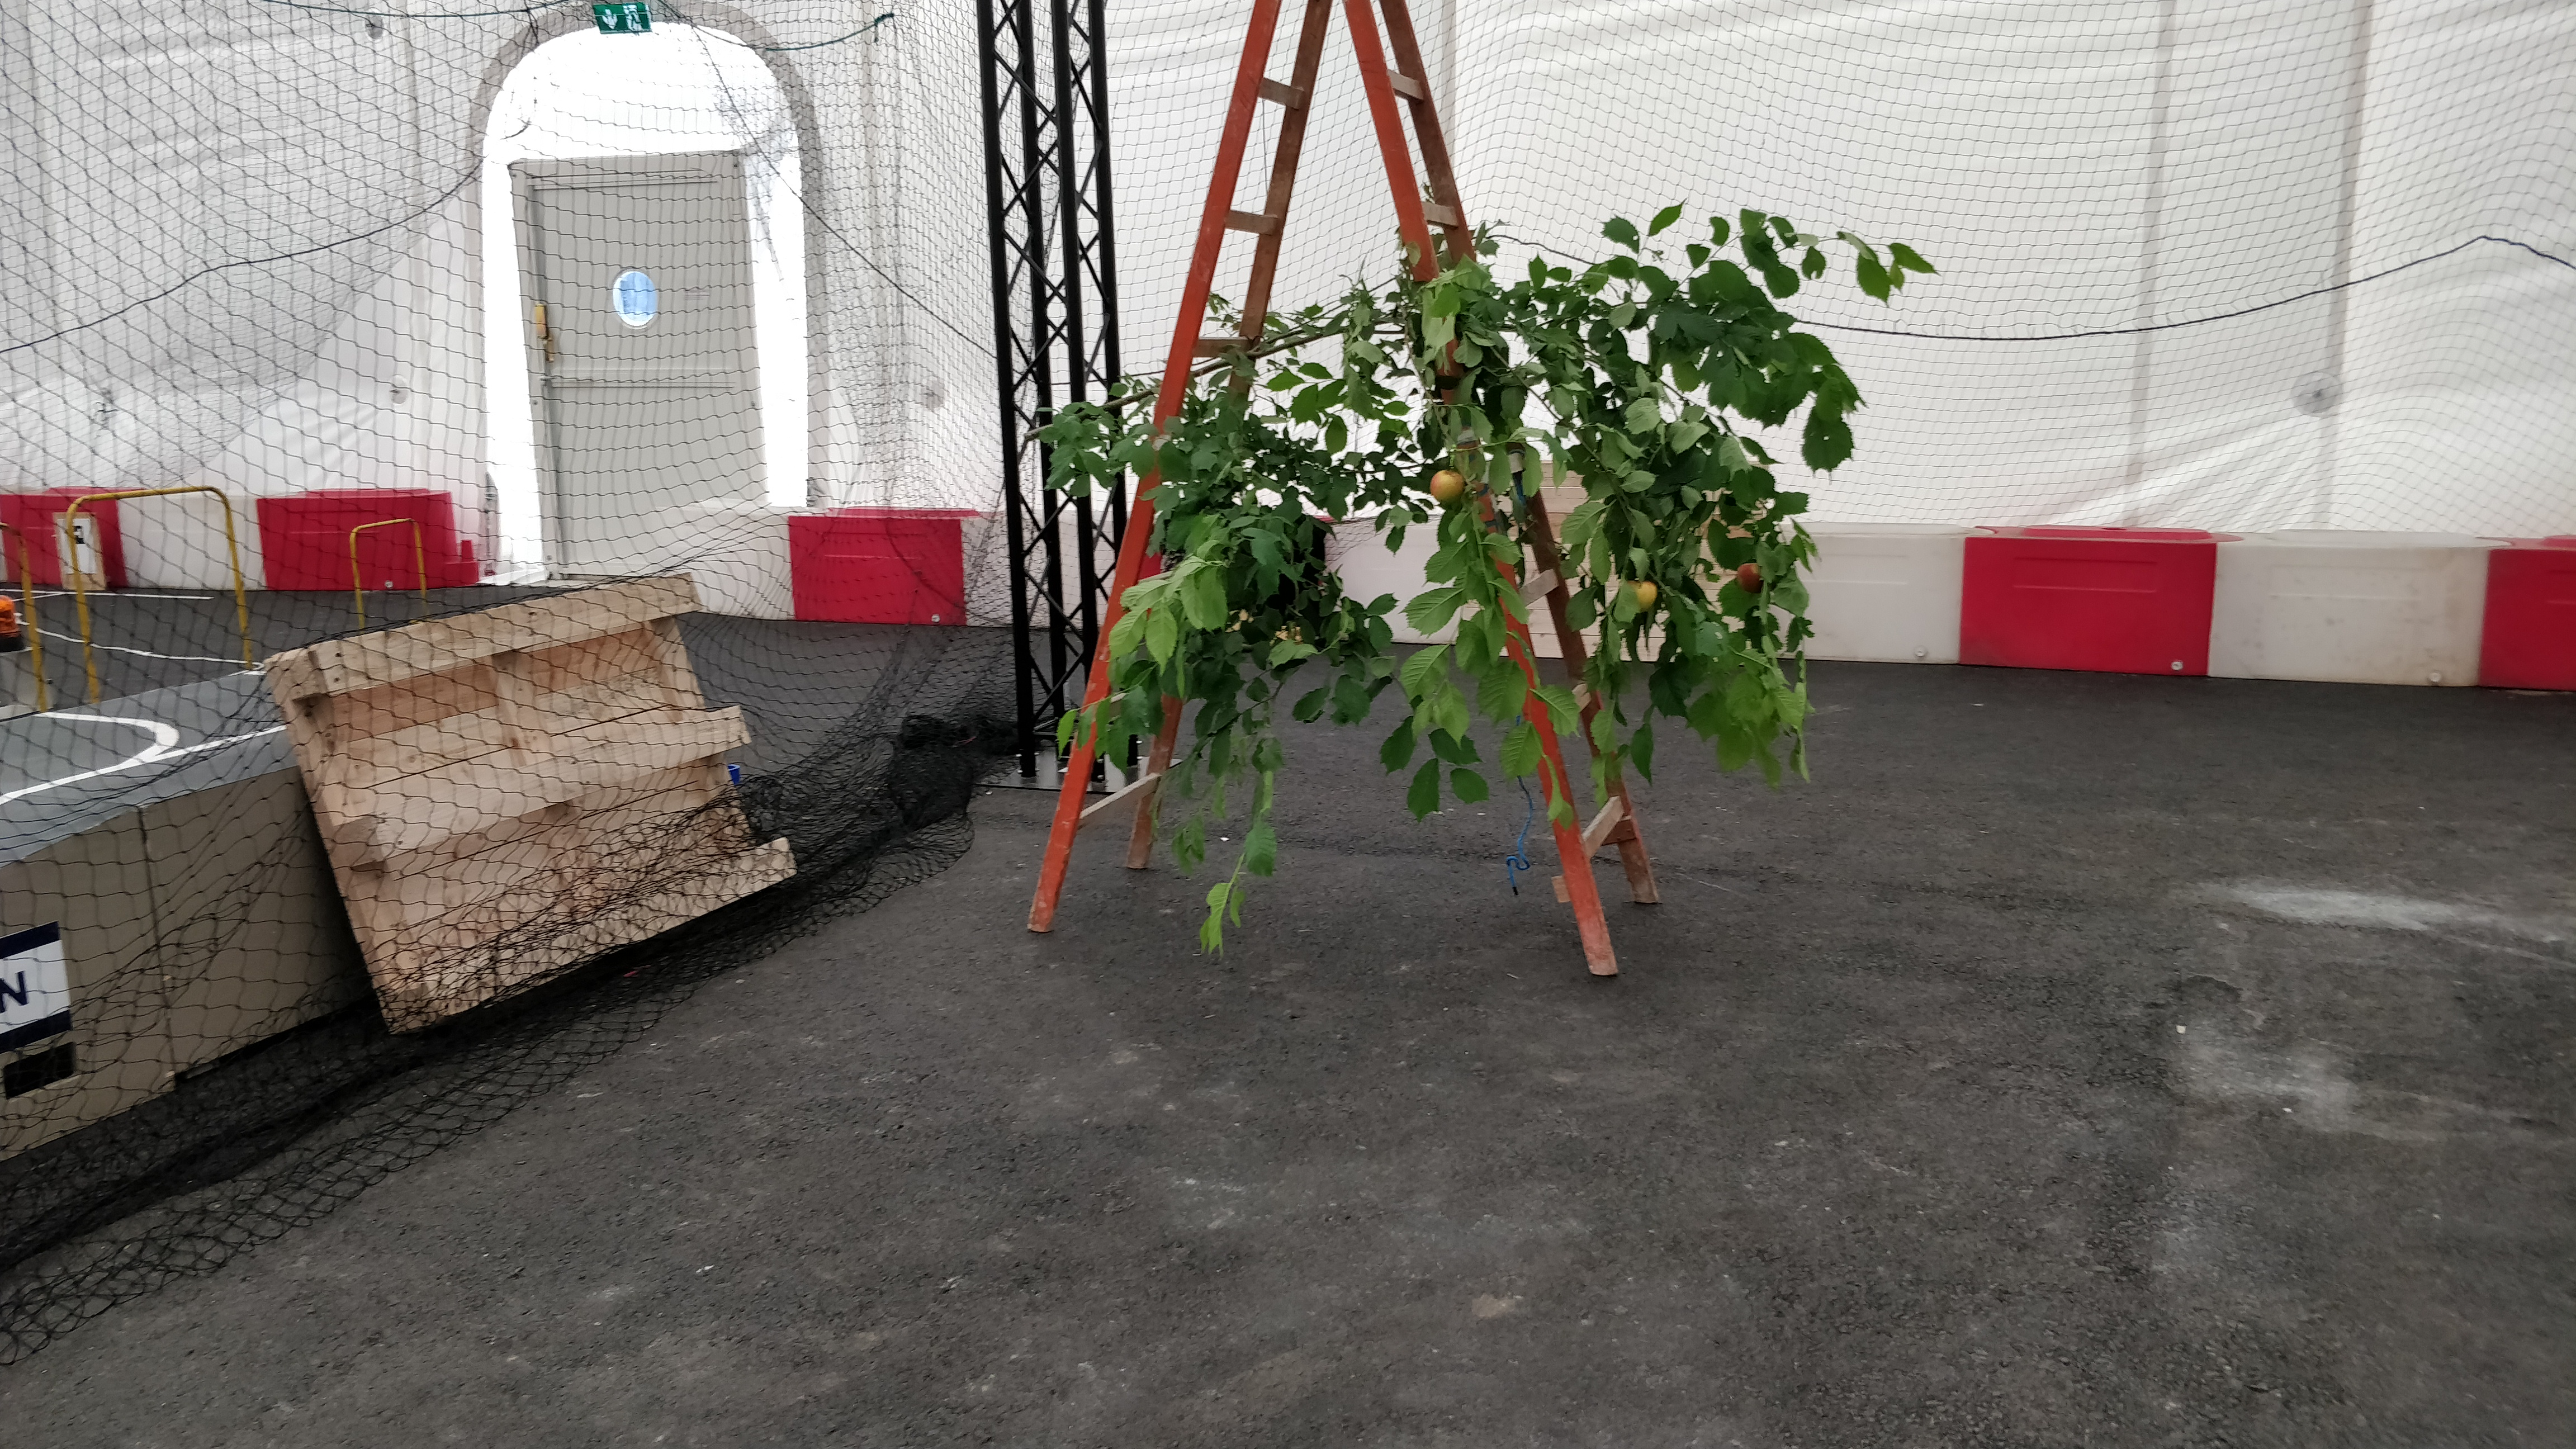apple: (1430, 471, 1465, 506), (1622, 582, 1658, 614), (1737, 563, 1766, 594)
